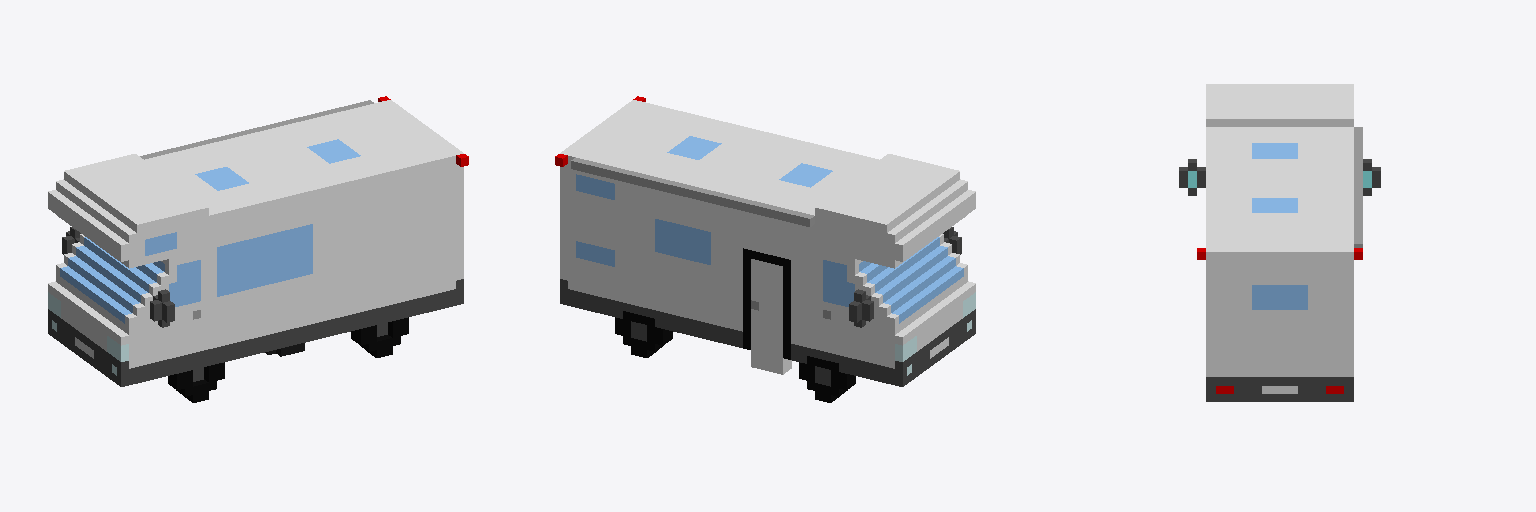
The picture shows the model from 3 angles: view 1: azimuth 30°, elevation 25°; view 2: azimuth 150°, elevation 25°; view 3: azimuth 270°, elevation 25°; orthographic projection.
Size of the model in its own units: 43 by 23 by 22.
Materials: 1 (1 with a texture image).